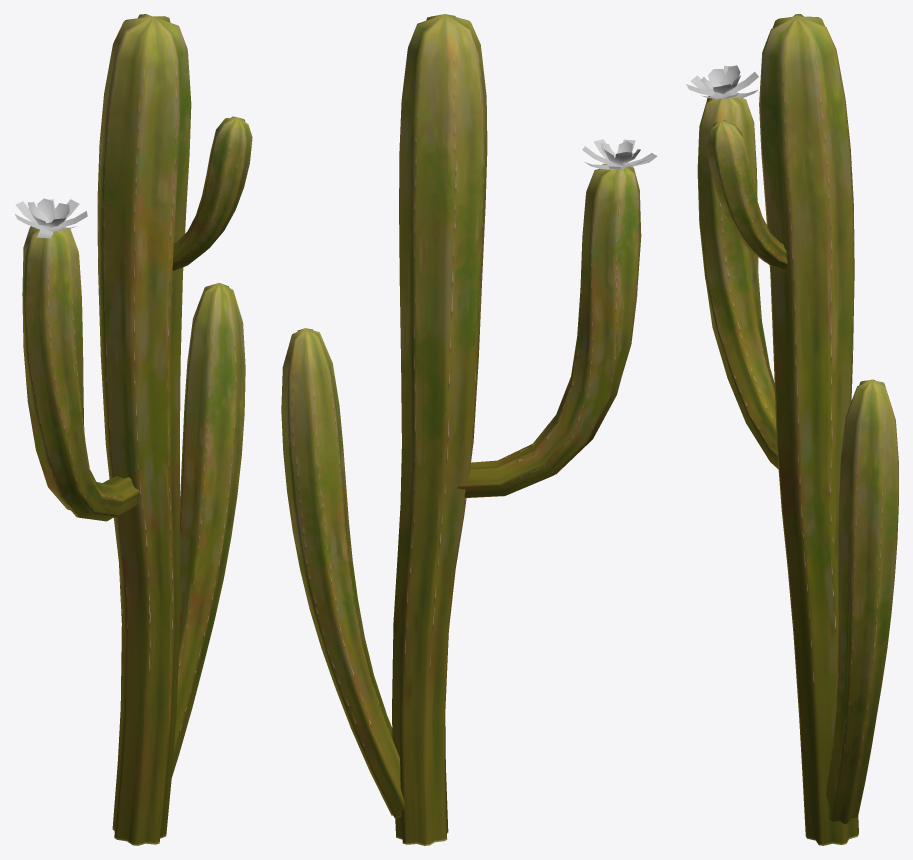
Rendered from SM_Cactus04.fbx.
The picture shows the model from 3 angles, left to right: view 1: azimuth 30°, elevation 25°; view 2: azimuth 150°, elevation 25°; view 3: azimuth 270°, elevation 25°; orthographic projection. The views are drawn at different scales.
Parts seen in each view (by area): view 1: SM_Cactus04; view 2: SM_Cactus04; view 3: SM_Cactus04.
Part boxes in pixels (box(x1,y1,x2,y2)): SM_Cactus04: box(15, 14, 252, 845); SM_Cactus04: box(281, 14, 657, 845); SM_Cactus04: box(686, 14, 898, 845).
Size of the model in its own units: 313 by 839 by 198.
